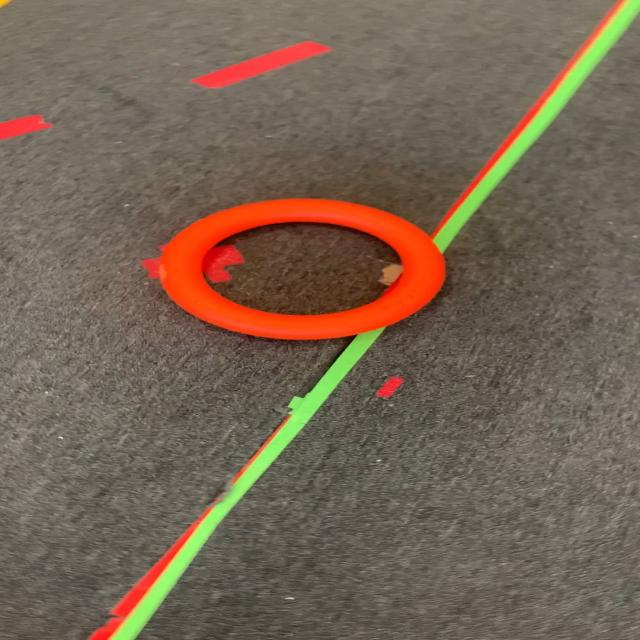notes: (156, 196, 445, 342)
